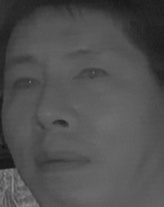eye: (72, 63, 109, 86), (9, 74, 41, 93)
mouth: (33, 144, 89, 177)
